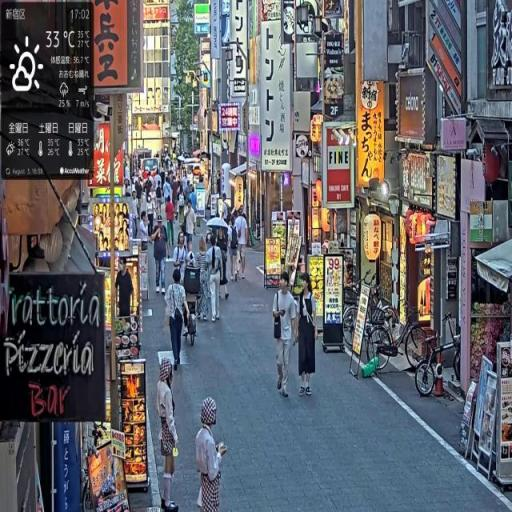person: (157, 362, 182, 512), (197, 395, 228, 512), (272, 271, 299, 402), (296, 273, 319, 398), (163, 269, 189, 372), (153, 215, 170, 294), (116, 257, 135, 324), (236, 209, 251, 281), (183, 202, 197, 259), (164, 192, 176, 255)
